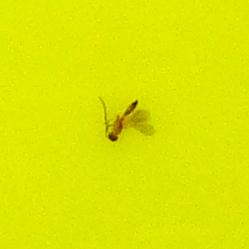Hymenoptera: (100, 100, 149, 149)
